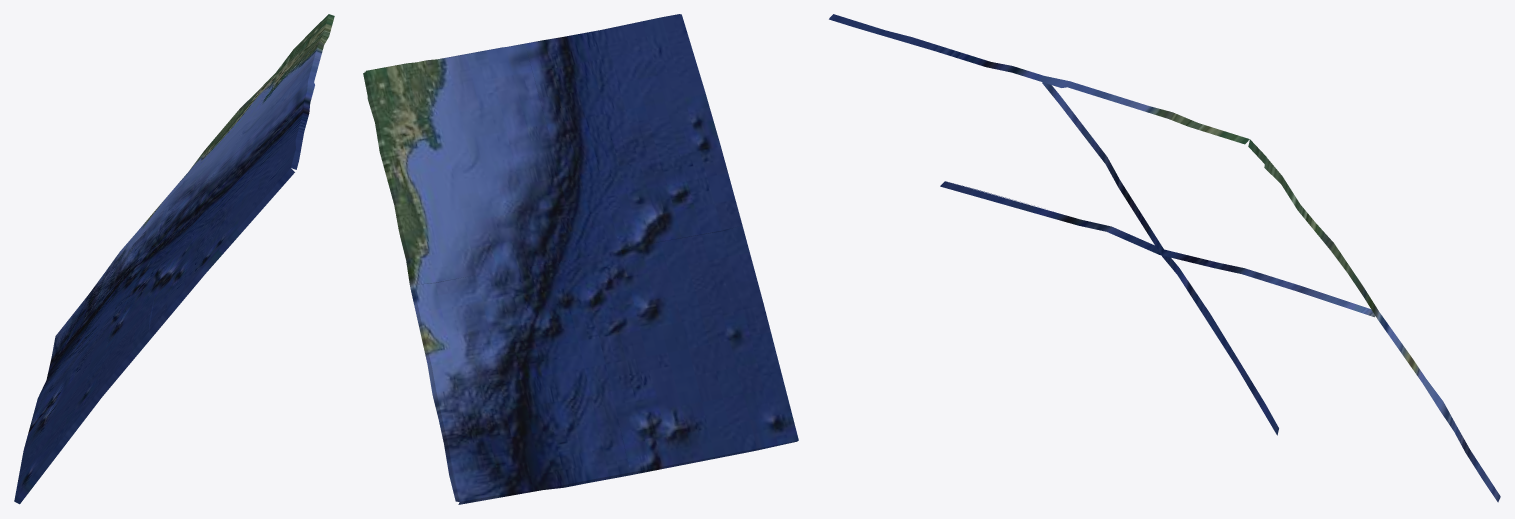
3 views of the same model, side by side, from view 1: azimuth 30°, elevation 25°; view 2: azimuth 150°, elevation 25°; view 3: azimuth 270°, elevation 25° (orthographic). The views are drawn at different scales.
Size of the model in its own units: 600510 by 516510 by 632983.
1 material, 1 textured.
